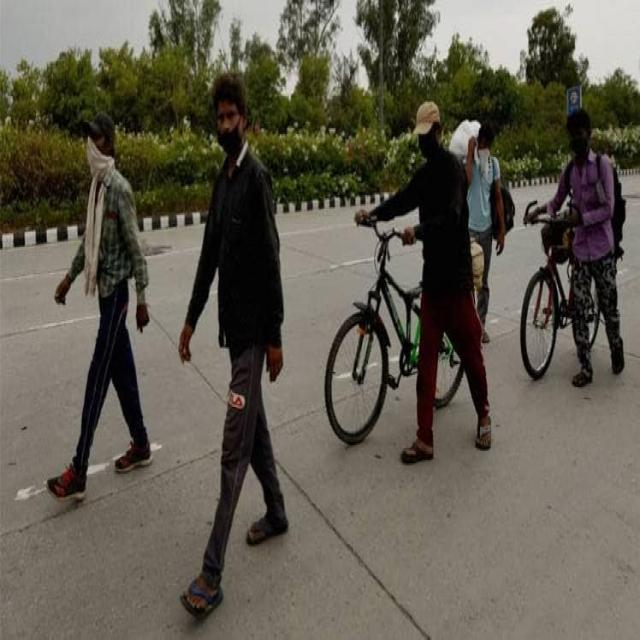bicycle: (325, 100, 491, 462), (520, 109, 625, 386)
